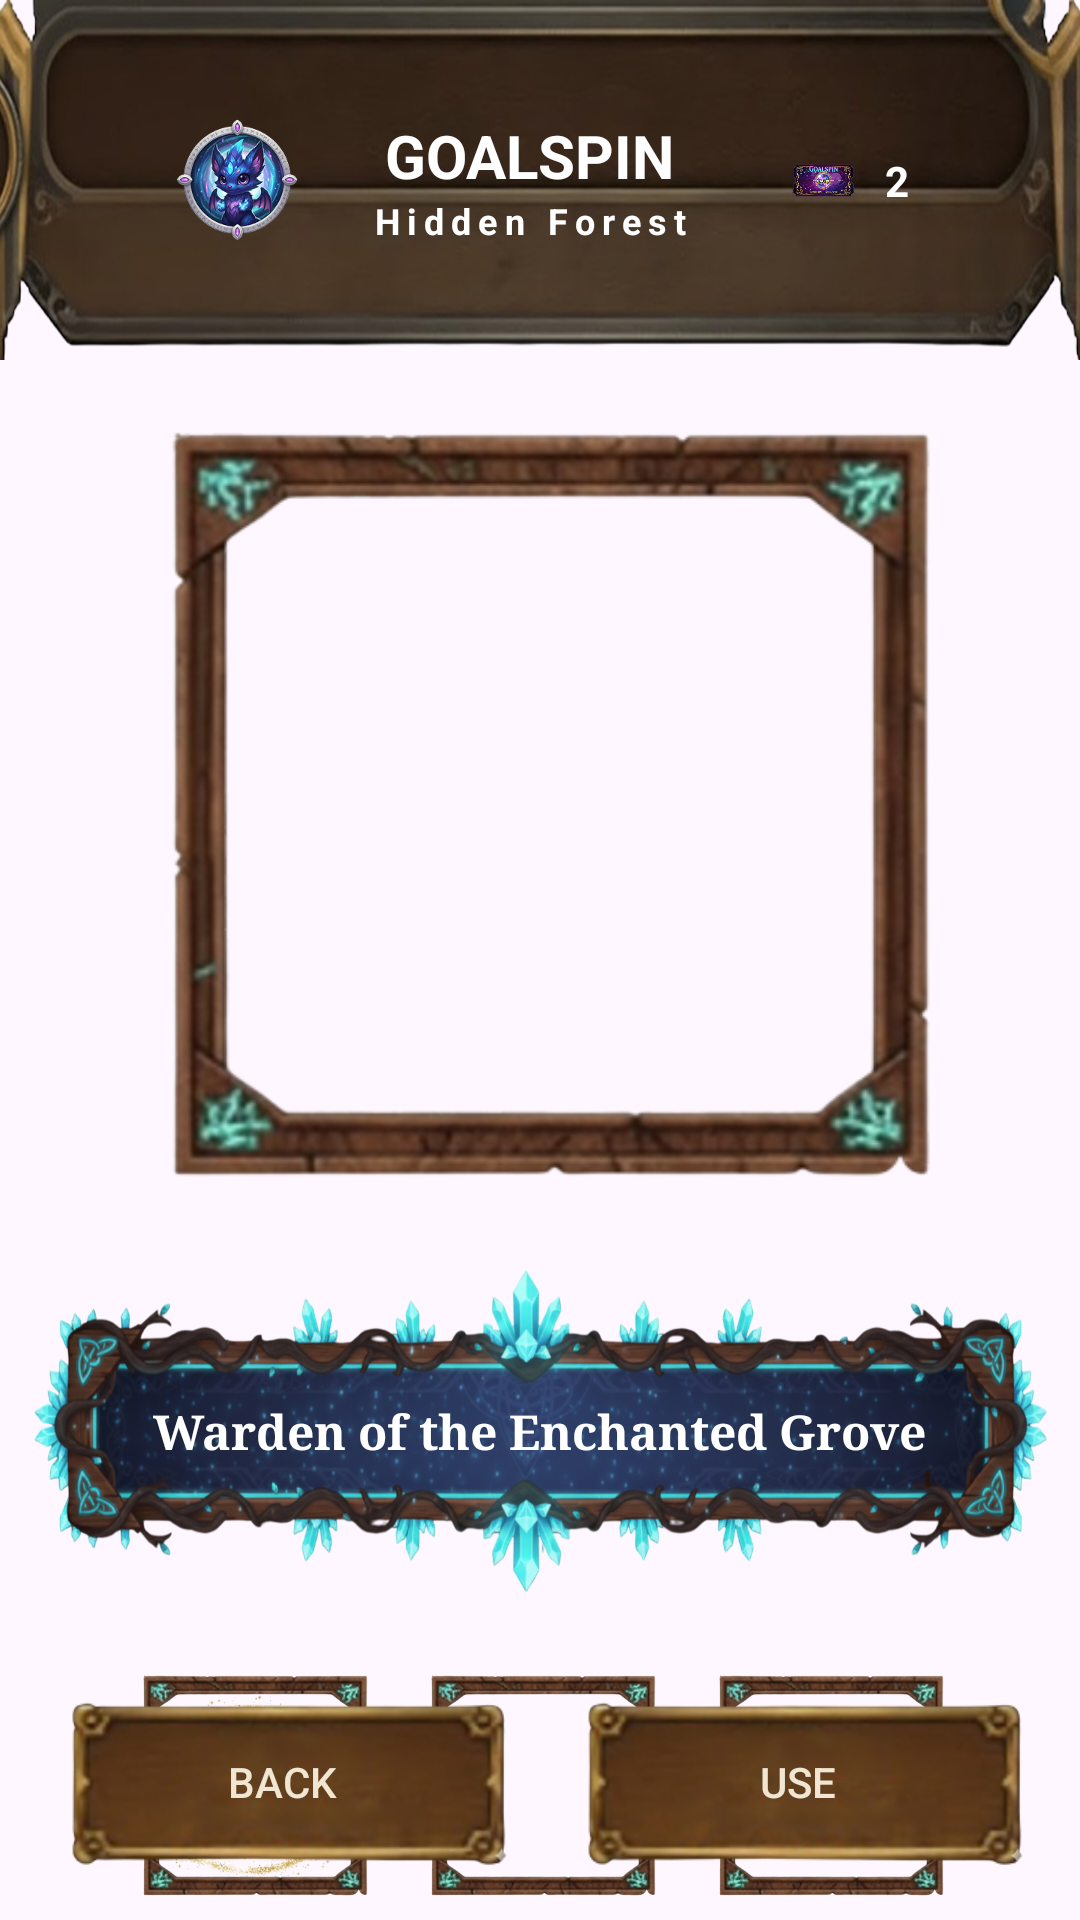

Named icons in this screenshot (1080 × 1920) and their centers, [x,y]:
proflie: [237,186]
ticket: [823,181]
